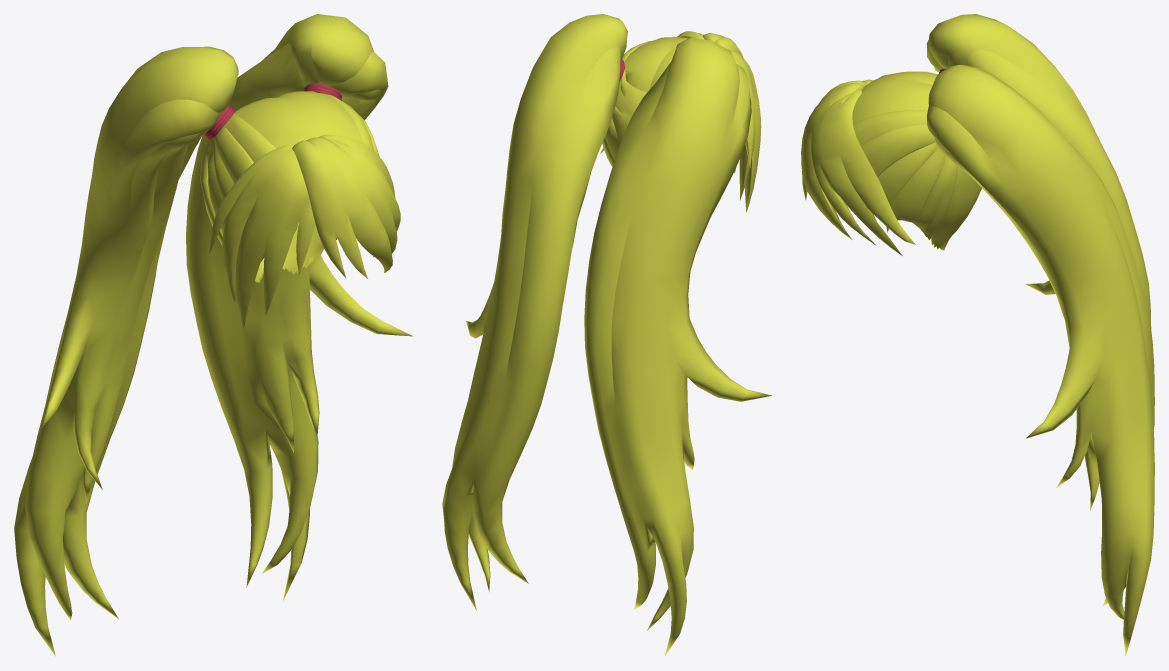
Rendered from hair2.glb.
The picture shows the model from 3 angles, left to right: view 1: azimuth 30°, elevation 25°; view 2: azimuth 150°, elevation 25°; view 3: azimuth 270°, elevation 25°; orthographic projection. The views are drawn at different scales.
Parts seen in each view (by area): view 1: Object_2; view 2: Object_2; view 3: Object_2.
Boxes of the visible parts, x1,y1,x2,y2 form: Object_2: (14, 14, 412, 656); Object_2: (442, 14, 771, 656); Object_2: (801, 14, 1154, 655).
Size of the model in its own units: 1.03 by 1.75 by 0.9949.
1 material, 1 textured.
